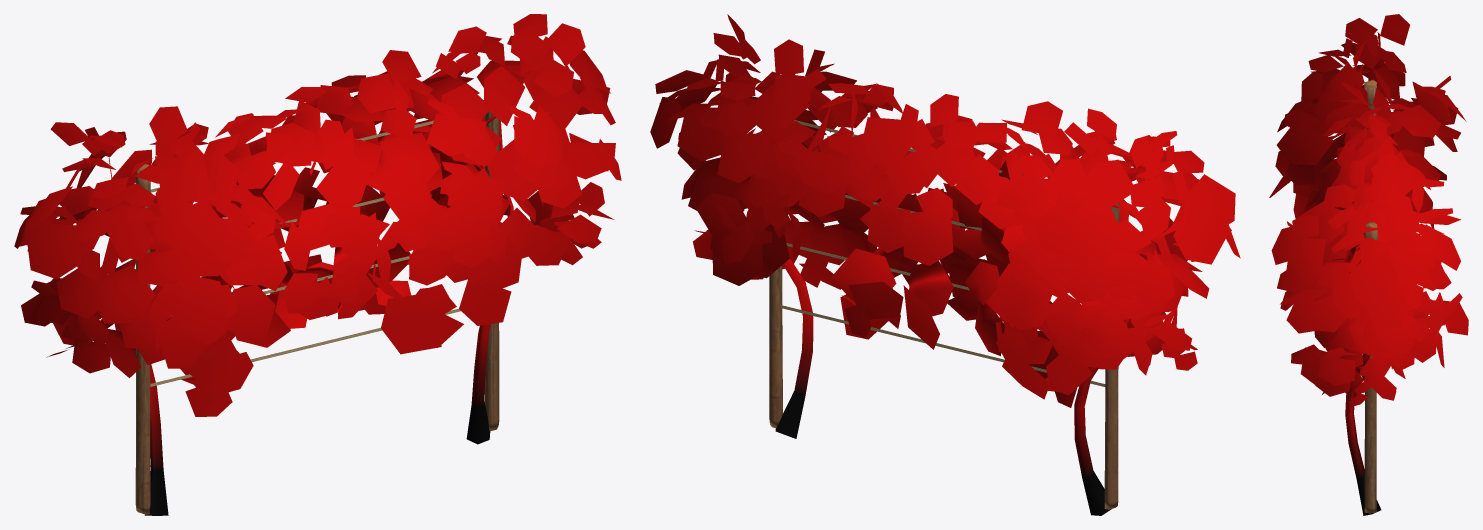
File: SM_Farm_GrapevineYellow_03.fbx
The picture shows the model from 3 angles, left to right: view 1: azimuth 30°, elevation 25°; view 2: azimuth 150°, elevation 25°; view 3: azimuth 270°, elevation 25°; orthographic projection. The views are drawn at different scales.
Parts seen in each view (by area): view 1: SM_Farm_GrapevineYellow_03_LOD0; view 2: SM_Farm_GrapevineYellow_03_LOD0; view 3: SM_Farm_GrapevineYellow_03_LOD0.
Part boxes in pixels (box(x1,y1,x2,y2)): SM_Farm_GrapevineYellow_03_LOD0: box(14, 14, 621, 515); SM_Farm_GrapevineYellow_03_LOD0: box(650, 14, 1240, 515); SM_Farm_GrapevineYellow_03_LOD0: box(1269, 14, 1468, 515).
Size of the model in its own units: 255 by 170 by 89.49.
